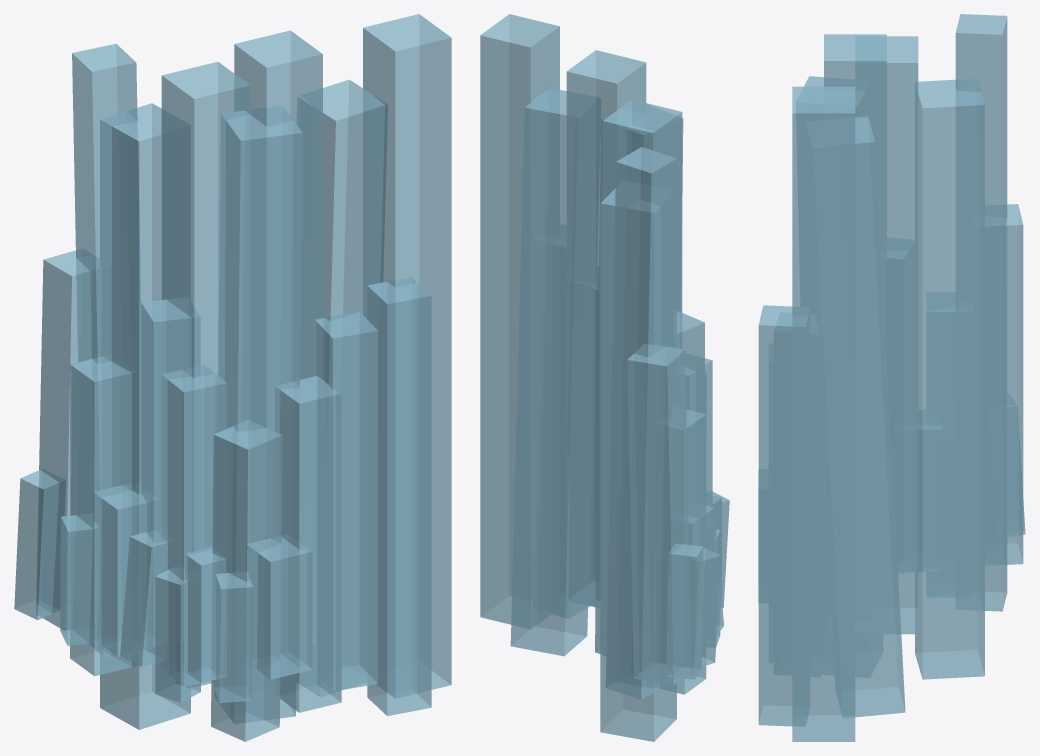
Rendered from Crystal Pillars.fbx.
3 views of the same model, side by side, from view 1: azimuth 30°, elevation 25°; view 2: azimuth 150°, elevation 25°; view 3: azimuth 270°, elevation 25° (orthographic). The views are drawn at different scales.
Parts seen in each view (by area): view 1: wall_cube.039, wall_cube.037, wall_cube.044, wall_cube.043, wall_cube.040, wall_cube.031, wall_cube.042, wall_cube.045, wall_cube.030, wall_cube.029, wall_cube.033, wall_cube.035 (+11 smaller); view 2: wall_cube.039, wall_cube.040, wall_cube.045, wall_cube.044, wall_cube.042, wall_cube.036, wall_cube.043, wall_cube.035, wall_cube.023, wall_cube.037, wall_cube.034, wall_cube.031 (+7 smaller); view 3: wall_cube.039, wall_cube.044, wall_cube.040, wall_cube.045, wall_cube.043, wall_cube.031, wall_cube.042, wall_cube.036, wall_cube.034, wall_cube.035, wall_cube.030, wall_cube.037 (+4 smaller).
Boxes of the visible parts, bbox=[...] form: wall_cube.039: bbox=[363, 14, 451, 698]; wall_cube.037: bbox=[215, 106, 302, 723]; wall_cube.044: bbox=[100, 103, 190, 729]; wall_cube.043: bbox=[161, 61, 250, 686]; wall_cube.040: bbox=[297, 79, 387, 696]; wall_cube.031: bbox=[367, 277, 431, 715]; wall_cube.042: bbox=[234, 30, 322, 644]; wall_cube.045: bbox=[72, 43, 141, 656]; wall_cube.030: bbox=[315, 312, 377, 691]; wall_cube.029: bbox=[275, 376, 341, 712]; wall_cube.033: bbox=[211, 420, 282, 741]; wall_cube.035: bbox=[70, 355, 136, 676]; wall_cube.039: bbox=[480, 14, 559, 629]; wall_cube.040: bbox=[510, 88, 600, 656]; wall_cube.045: bbox=[605, 147, 676, 699]; wall_cube.044: bbox=[600, 181, 676, 741]; wall_cube.042: bbox=[566, 50, 646, 608]; wall_cube.036: bbox=[627, 344, 690, 685]; wall_cube.043: bbox=[602, 99, 682, 649]; wall_cube.035: bbox=[647, 407, 706, 694]; wall_cube.023: bbox=[666, 544, 703, 679]; wall_cube.037: bbox=[595, 105, 683, 655]; wall_cube.034: bbox=[673, 311, 704, 504]; wall_cube.031: bbox=[553, 224, 590, 618]; wall_cube.039: bbox=[792, 86, 855, 741]; wall_cube.044: bbox=[915, 79, 984, 679]; wall_cube.040: bbox=[806, 116, 905, 717]; wall_cube.045: bbox=[955, 14, 1007, 611]; wall_cube.043: bbox=[856, 36, 918, 634]; wall_cube.031: bbox=[758, 305, 809, 726]; wall_cube.042: bbox=[824, 34, 886, 631]; wall_cube.036: bbox=[985, 204, 1023, 565]; wall_cube.034: bbox=[887, 237, 914, 573]; wall_cube.035: bbox=[926, 292, 972, 597]; wall_cube.030: bbox=[774, 313, 826, 676]; wall_cube.037: bbox=[796, 76, 882, 677].
Bounding box in the file's own units: 11.45 × 23.03 × 8.47.
